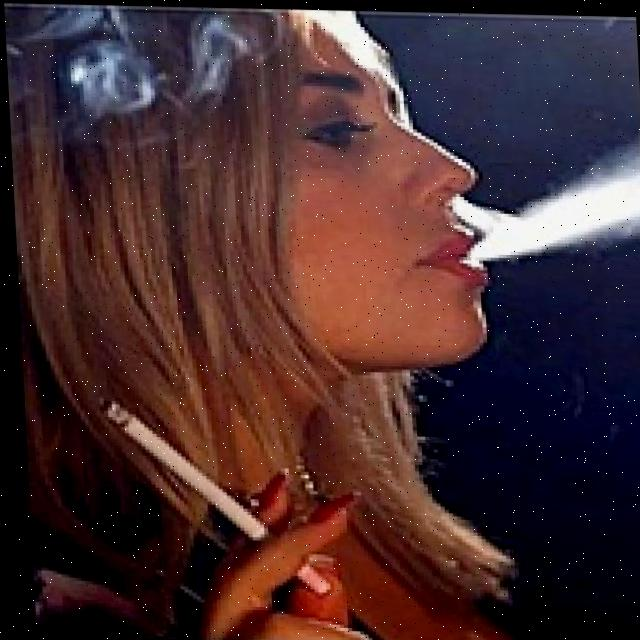cigarette: (89, 395, 325, 594)
